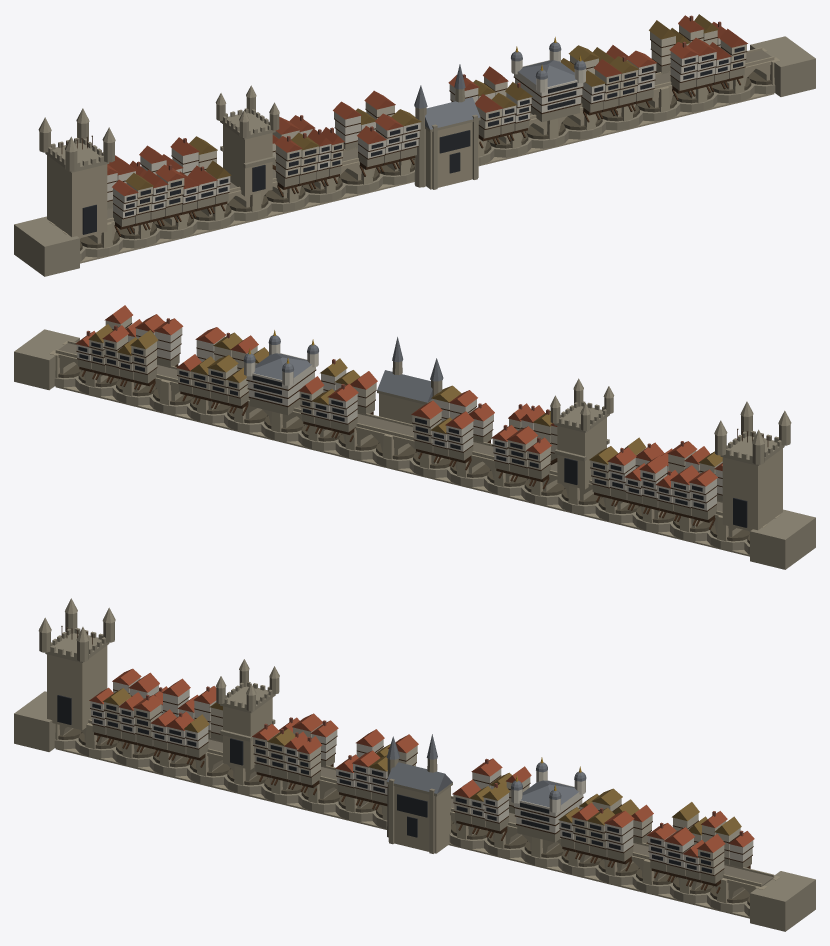
File: old_london_bridge.glb
3 renders of one model, top to bottom at view 1: azimuth 30°, elevation 25°; view 2: azimuth 150°, elevation 25°; view 3: azimuth 330°, elevation 25°, orthographic.
Visible parts, largest first — view 1: old_london_bridge; view 2: old_london_bridge; view 3: old_london_bridge.
Part boxes in pixels (x1=…): old_london_bridge: x1=14, y1=14, x2=815, y2=276; old_london_bridge: x1=14, y1=305, x2=815, y2=569; old_london_bridge: x1=14, y1=598, x2=815, y2=931.
Size of the model in its own units: 306 by 51.5 by 27.4.
